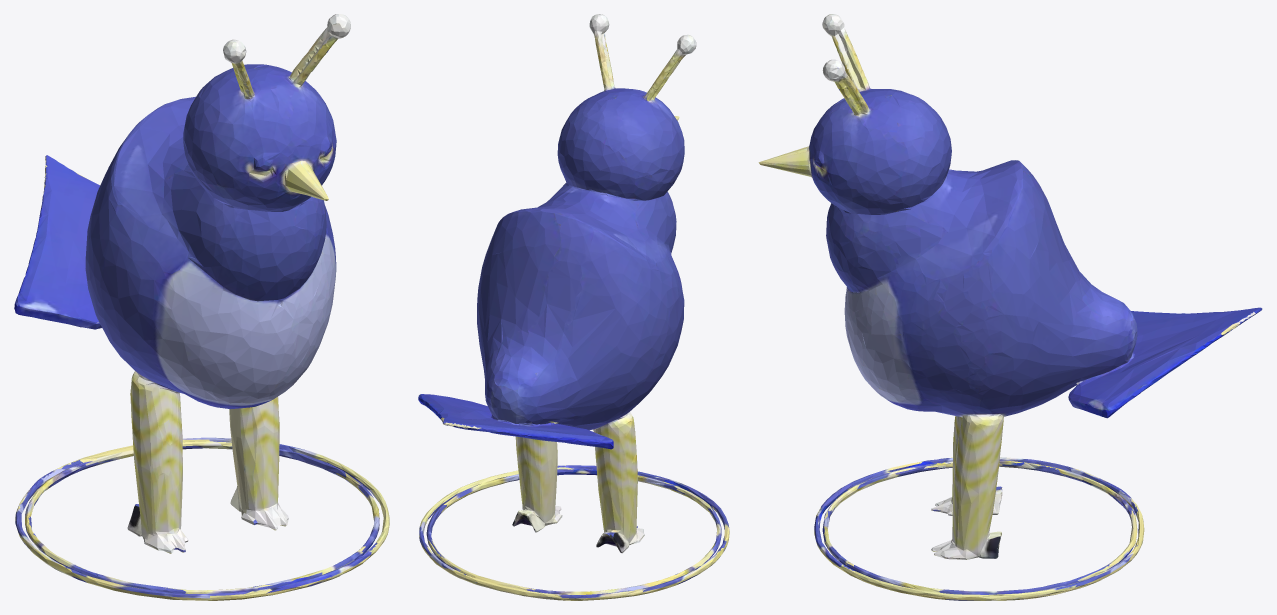
Rendered from creature-041.lod.glb.
3 renders of one model, left to right at view 1: azimuth 30°, elevation 25°; view 2: azimuth 150°, elevation 25°; view 3: azimuth 270°, elevation 25°, orthographic. The views are drawn at different scales.
Visible parts, largest first — view 1: tmp9fd2jzsh.ply; view 2: tmp9fd2jzsh.ply; view 3: tmp9fd2jzsh.ply.
Boxes of the visible parts, left/top/right/bottom form: tmp9fd2jzsh.ply: left=14, top=14, right=389, bottom=600; tmp9fd2jzsh.ply: left=418, top=14, right=729, bottom=600; tmp9fd2jzsh.ply: left=758, top=14, right=1262, bottom=600.
Bounding box in the file's own units: 1.21 × 1.99 × 1.84.
1 material, 1 textured.
